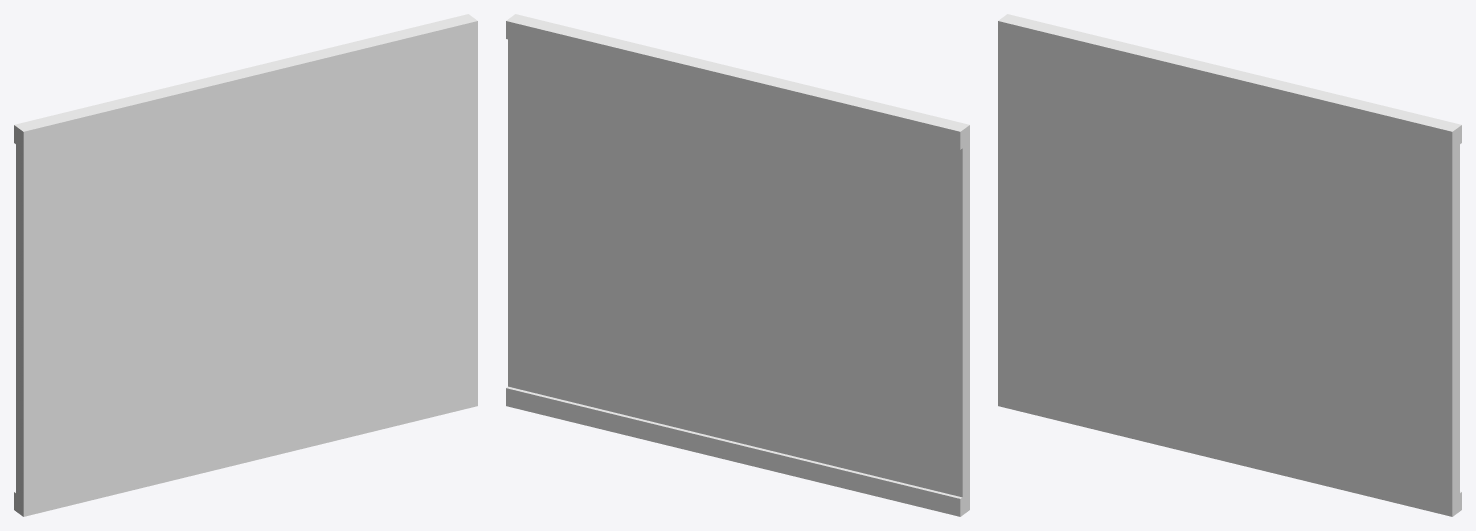
File: venice_road_9.fbx
3 views of the same model, side by side, from view 1: azimuth 30°, elevation 25°; view 2: azimuth 150°, elevation 25°; view 3: azimuth 330°, elevation 25° (orthographic).
Parts seen in each view (by area): view 1: Cube.291; view 2: Cube.291; view 3: Cube.291.
Boxes of the visible parts, bbox=[...] form: Cube.291: bbox=[14, 14, 477, 516]; Cube.291: bbox=[506, 14, 969, 516]; Cube.291: bbox=[998, 14, 1461, 516].
Bounding box in the file's own units: 1753 × 1420 × 63.5.
